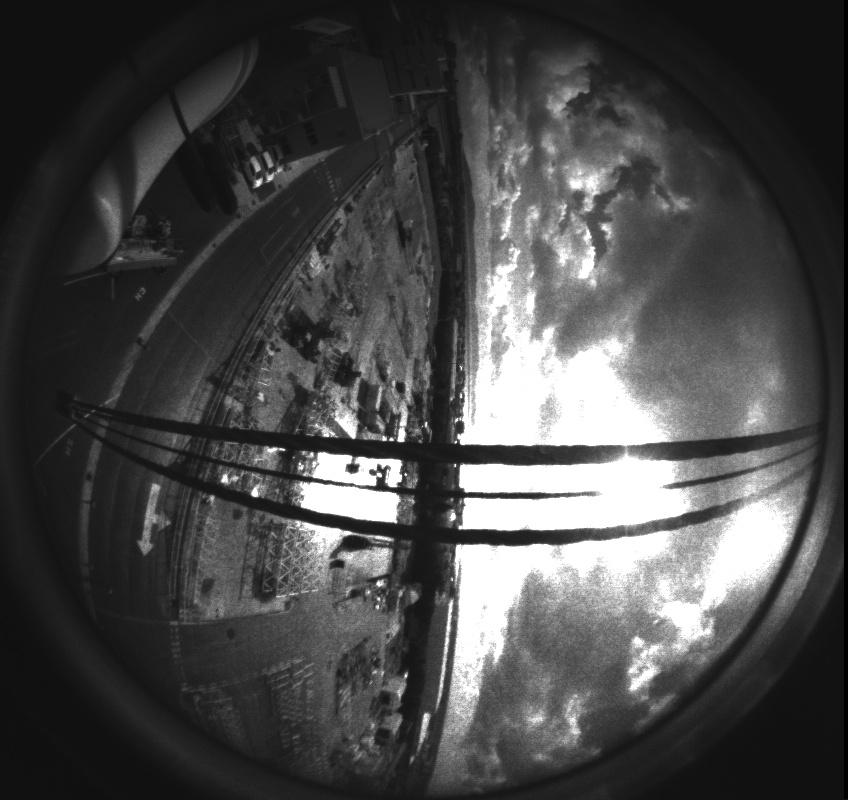rope: (11, 375, 845, 556)
